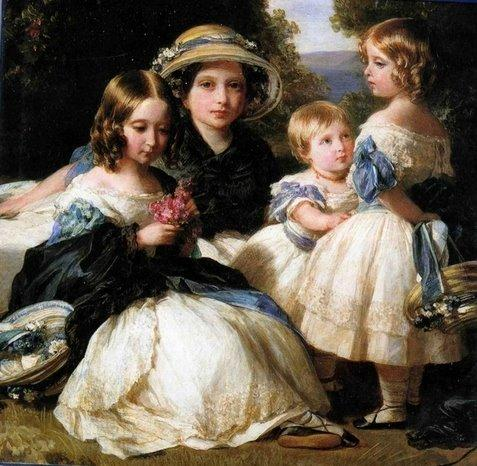person: (68, 67, 355, 451), (14, 30, 288, 244), (315, 20, 455, 425), (246, 102, 373, 395)
